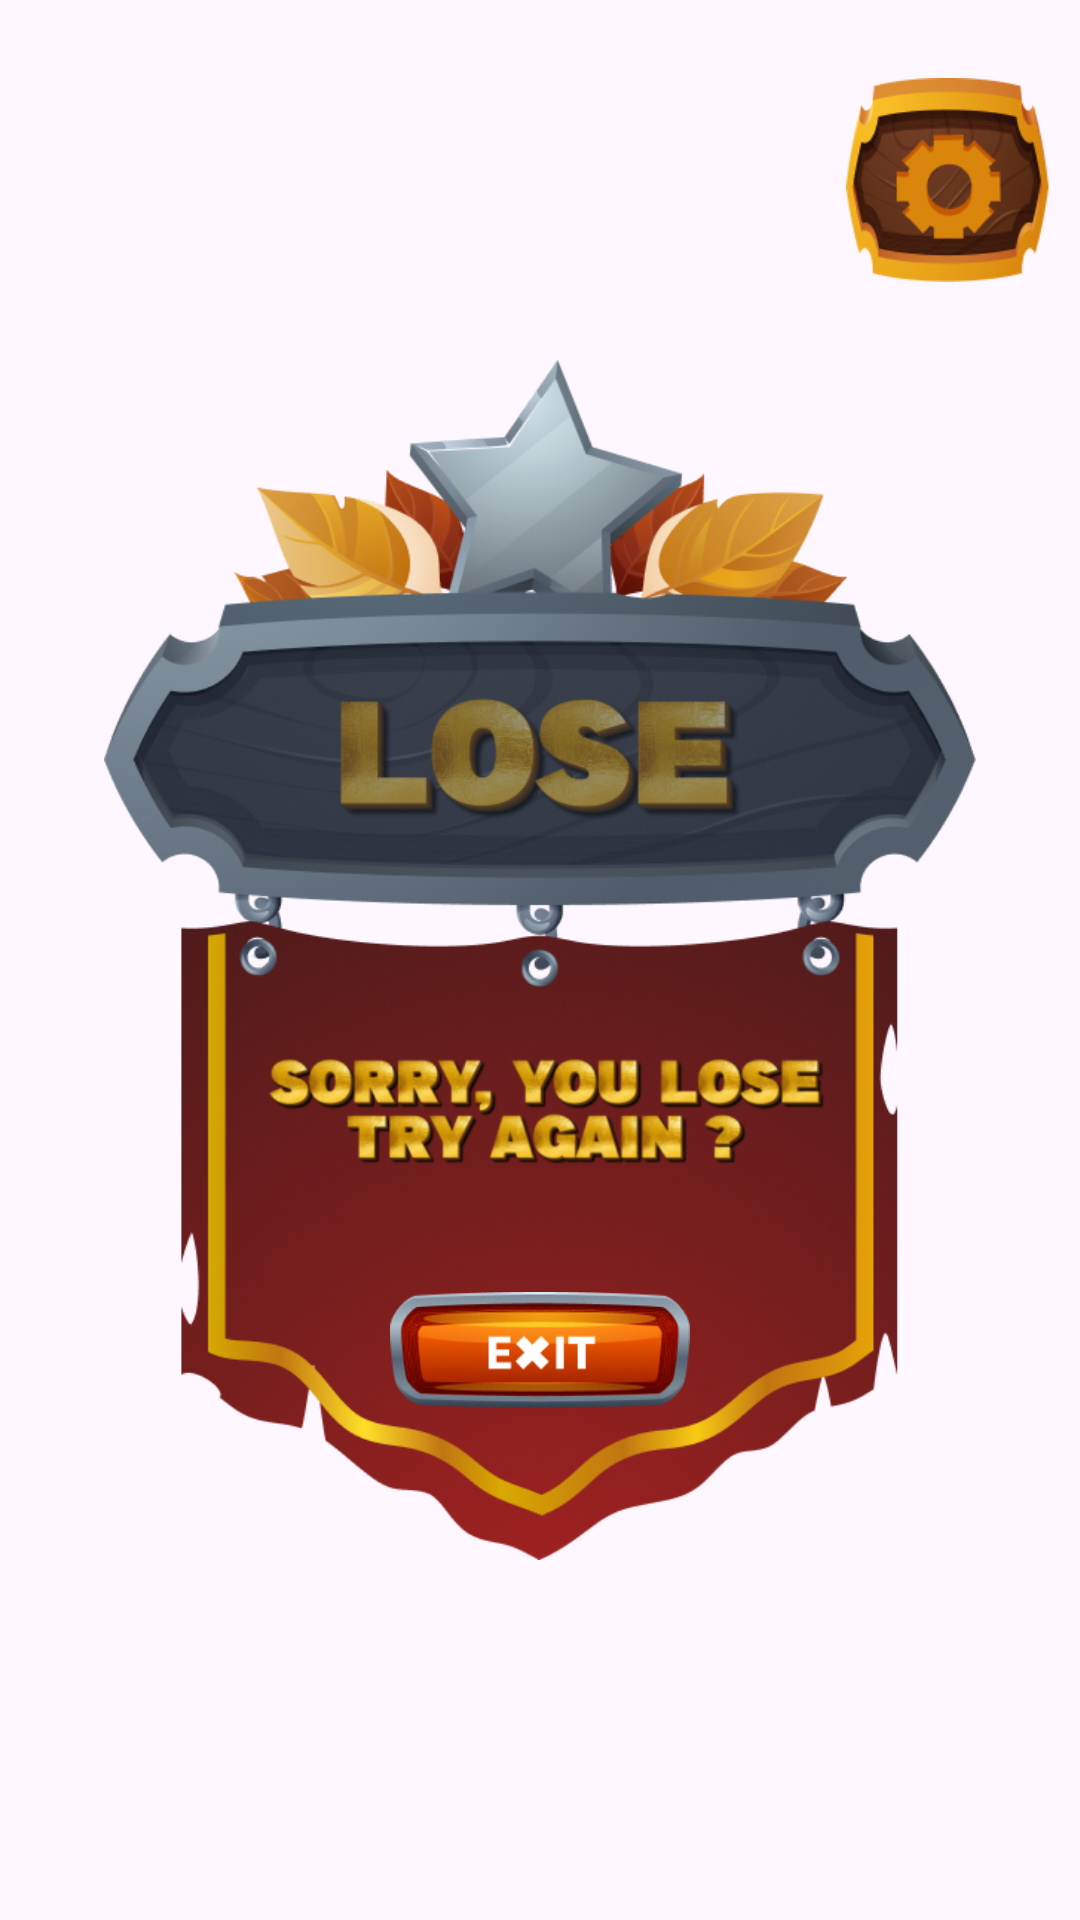

Icon bounding boxes for this 1080w x 1920h phone screenshot, format [x1=x1, y1=y1, x2=x2, y2=y2]:
settings: [x1=846, y1=78, x2=1049, y2=282]
